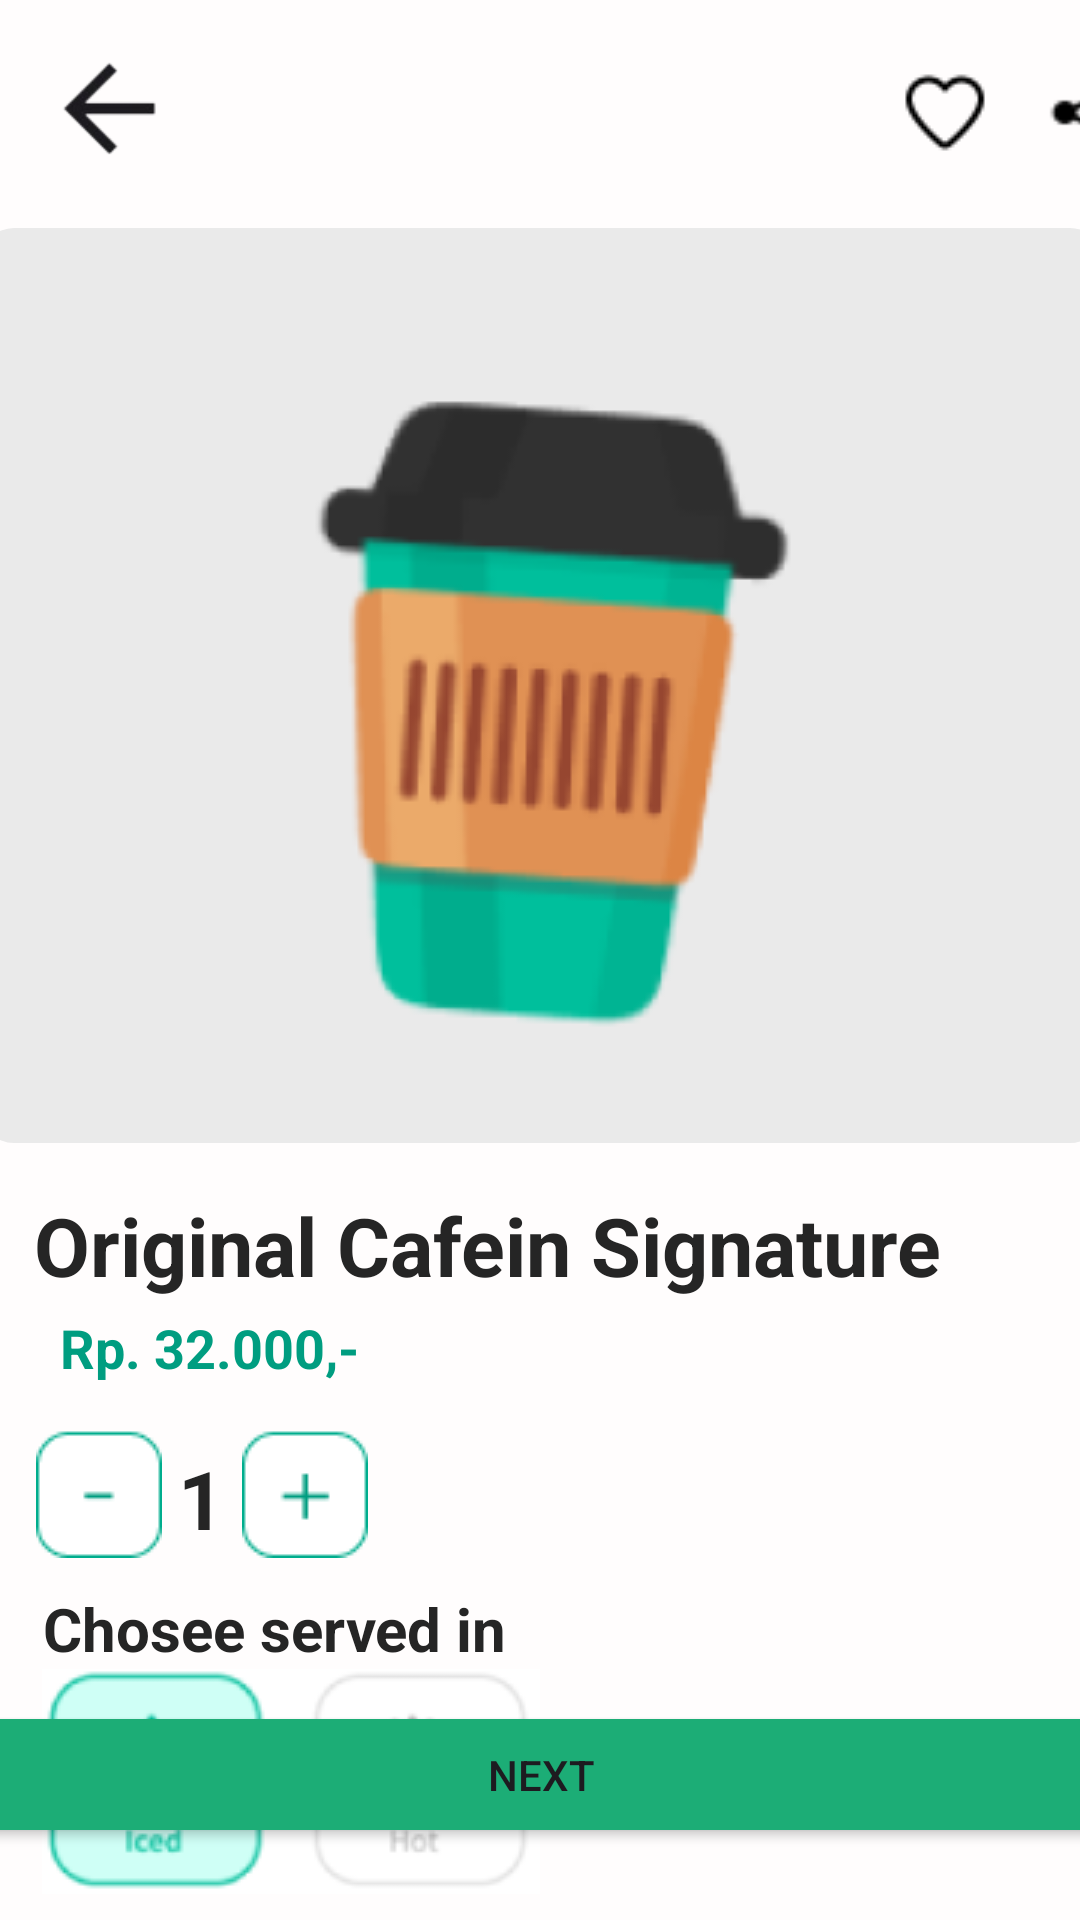

Screen size 1080w x 1920h. Icon name, then its box in pixels as (left=x1, top=y1, right=x2, bottom=y2):
favorite: (left=905, top=74, right=985, bottom=151)
kurang: (left=36, top=1431, right=162, bottom=1558)
tambah: (left=242, top=1431, right=368, bottom=1558)
